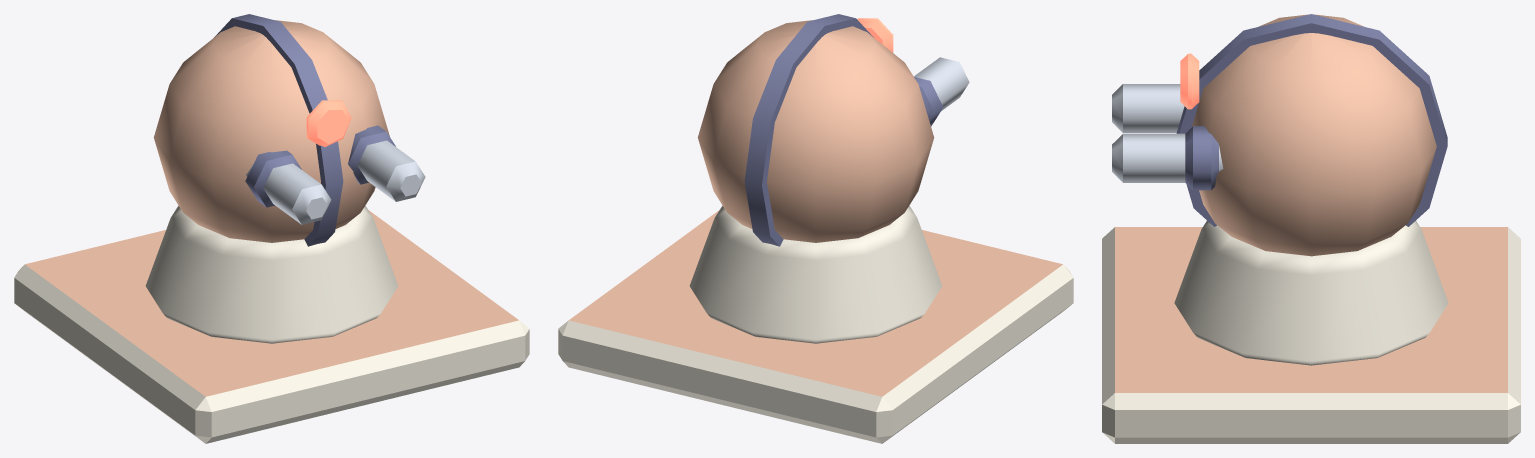
The model's file is R4X_PointDefense_LOD1.fbx.
The picture shows the model from 3 angles, left to right: view 1: azimuth 30°, elevation 25°; view 2: azimuth 150°, elevation 25°; view 3: azimuth 270°, elevation 25°; orthographic projection. The views are drawn at different scales.
Parts seen in each view (by area): view 1: R4X_PointDefense_LOD1; view 2: R4X_PointDefense_LOD1; view 3: R4X_PointDefense_LOD1.
Boxes of the visible parts, left/top/right/bottom form: R4X_PointDefense_LOD1: left=14, top=14, right=529, bottom=443; R4X_PointDefense_LOD1: left=558, top=14, right=1073, bottom=443; R4X_PointDefense_LOD1: left=1102, top=14, right=1520, bottom=443.
Bounding box in the file's own units: 0.52 × 0.469 × 0.52.
